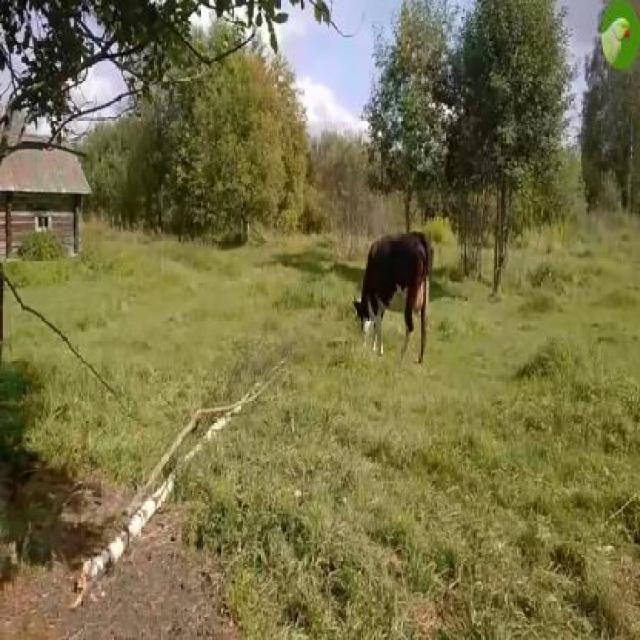Cow: (354, 235, 431, 377)
